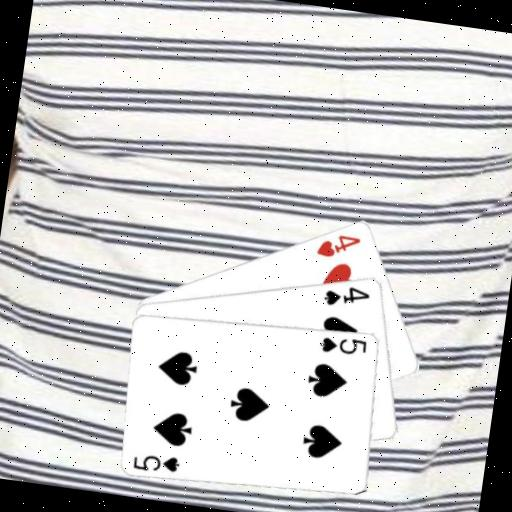4H: (313, 228, 364, 263)
4S: (321, 279, 374, 312)
5S: (130, 448, 183, 477), (317, 331, 370, 359)
